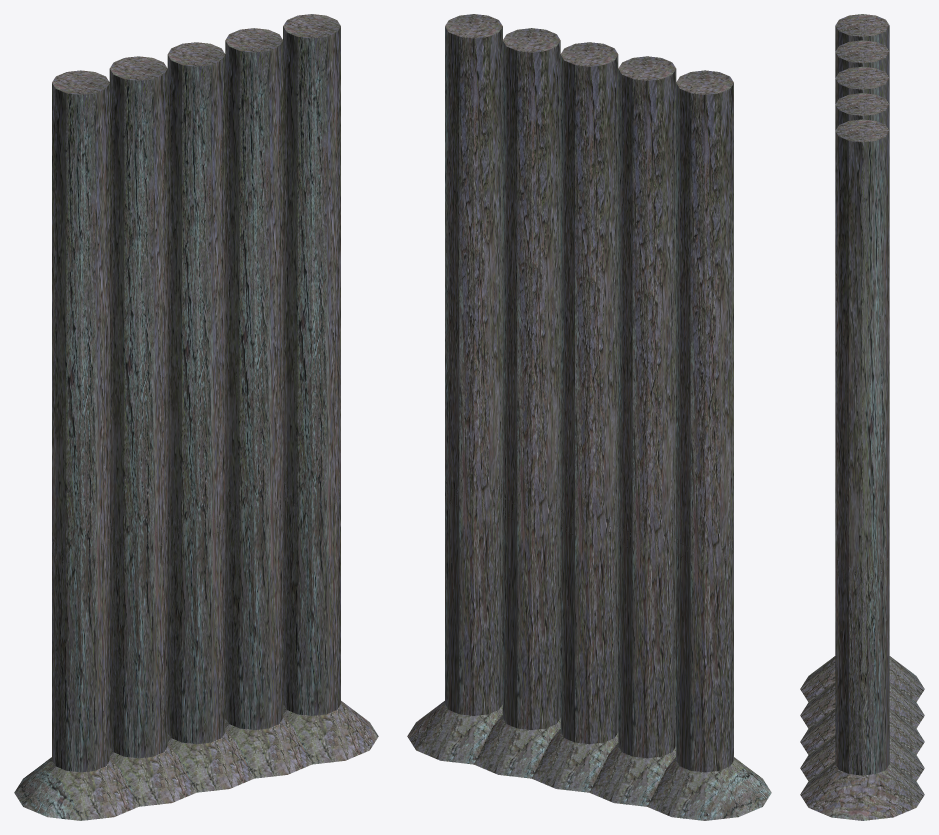
File: Tree2-5.glb
3 renders of one model, left to right at view 1: azimuth 30°, elevation 25°; view 2: azimuth 150°, elevation 25°; view 3: azimuth 270°, elevation 25°, orthographic. The views are drawn at different scales.
Parts seen in each view (by area): view 1: Cylinder; view 2: Cylinder; view 3: Cylinder.
Part boxes in pixels (left/top/right/bottom): Cylinder: left=14, top=14, right=378, bottom=820; Cylinder: left=407, top=14, right=771, bottom=820; Cylinder: left=800, top=14, right=924, bottom=820.
Size of the model in its own units: 13.81 by 27.02 by 4.6.
1 material, 1 textured.
